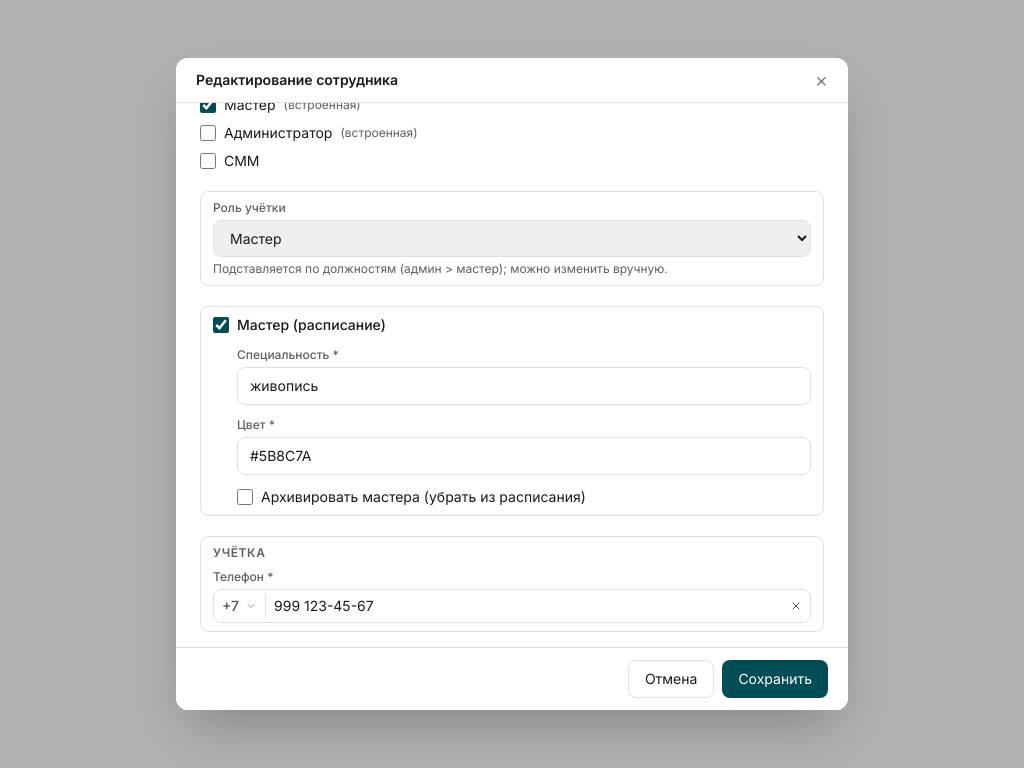
Test: StaffModal phone fields (GH #414) › edit: a CHANGED incomplete account phone blocks the PATCH BEFORE it is sent (#348 gate)
(page scrolled)
Type "9991234" into the field with test id "staff-account-phone-input".
click(524, 606); type("9991234")  # box [266,590,782,622]
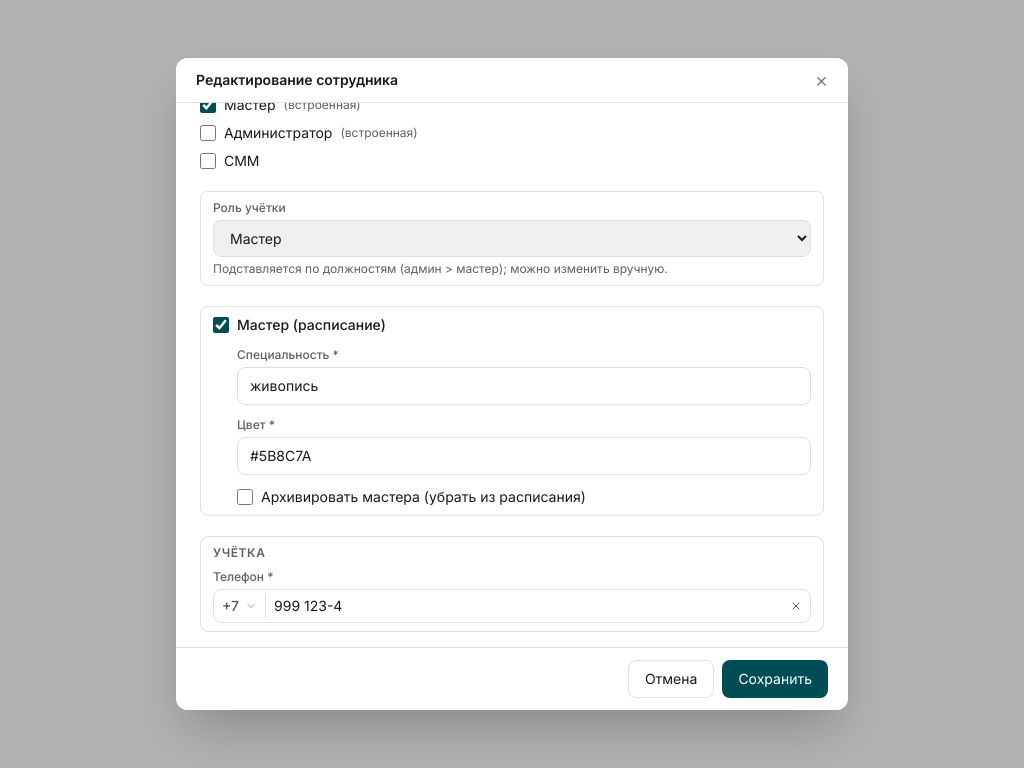
Click the button with test id "staff-modal-save-btn".
click(775, 679)  # box [722,660,828,698]
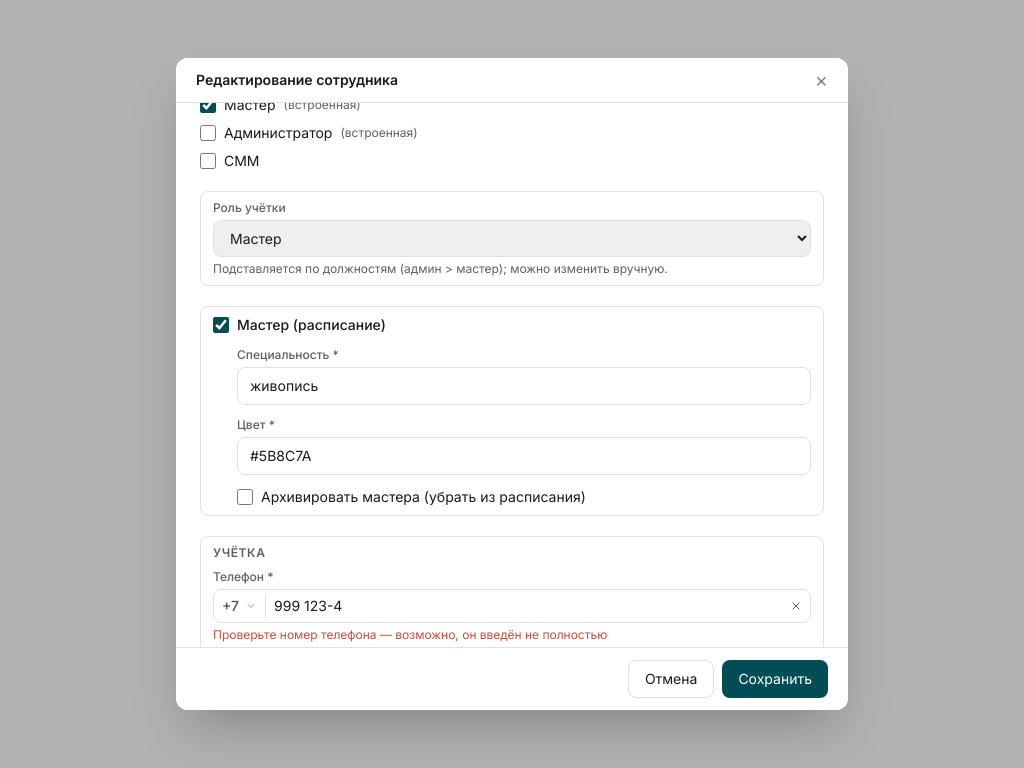
Expected: the text "Проверьте номер телефона — возможно, он введён не полностью" is shown, [213,627,607,642]
